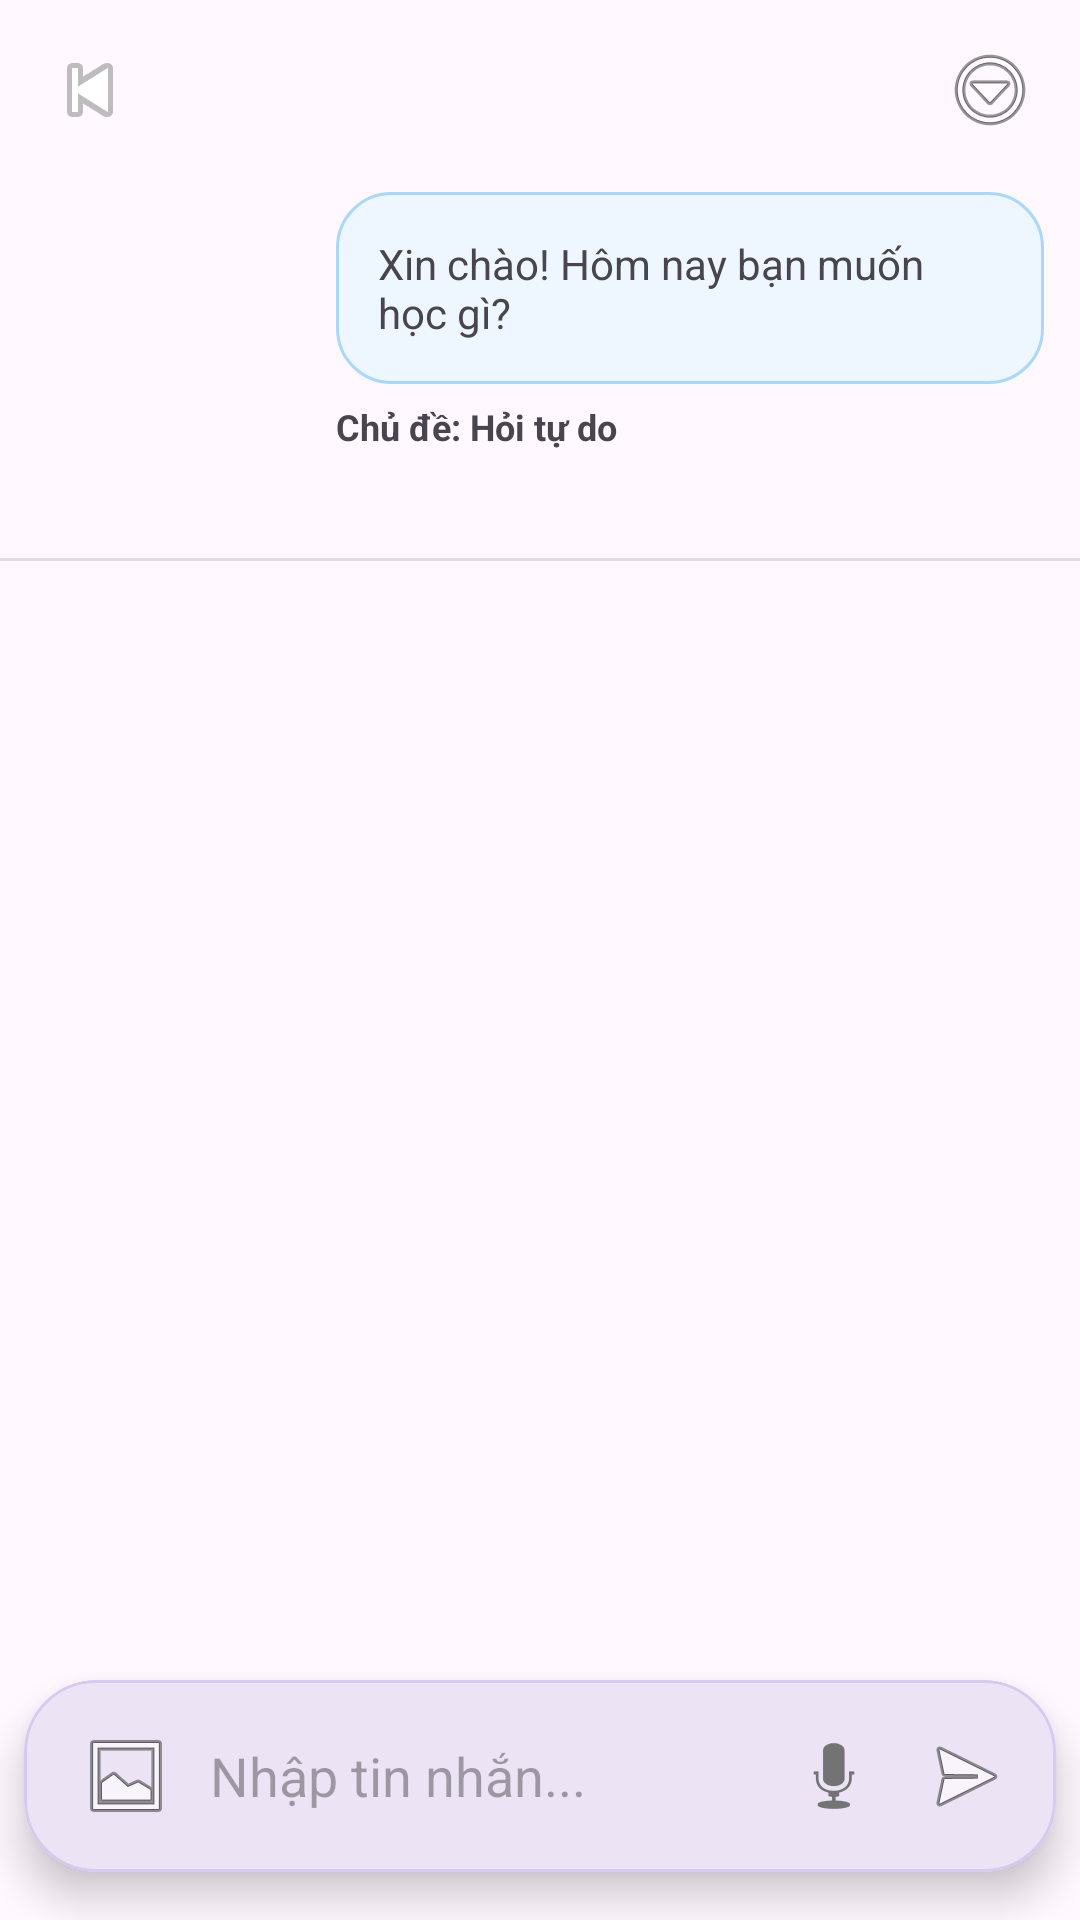

Icons on this 1080px x 1920px Android screen, each with the point to tap as (x=x, y=y):
Chọn hình ảnh: (x=126, y=1776)
Gửi tin nhắn: (x=967, y=1776)
Menu AI: (x=990, y=90)
Nói với AI: (x=834, y=1776)
Quay lại: (x=90, y=90)
